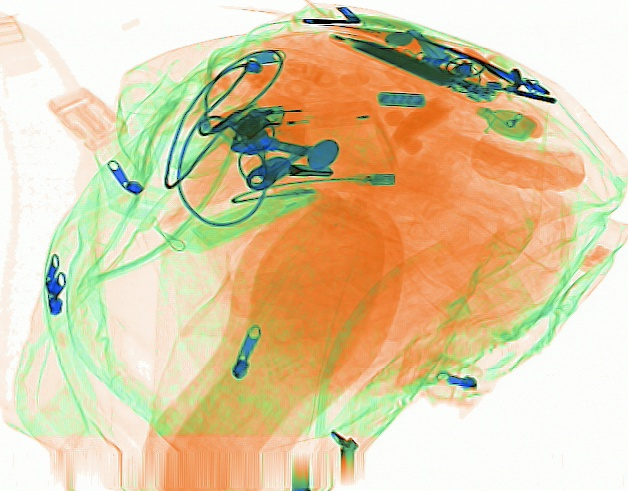lighter: (247, 99, 372, 128)
